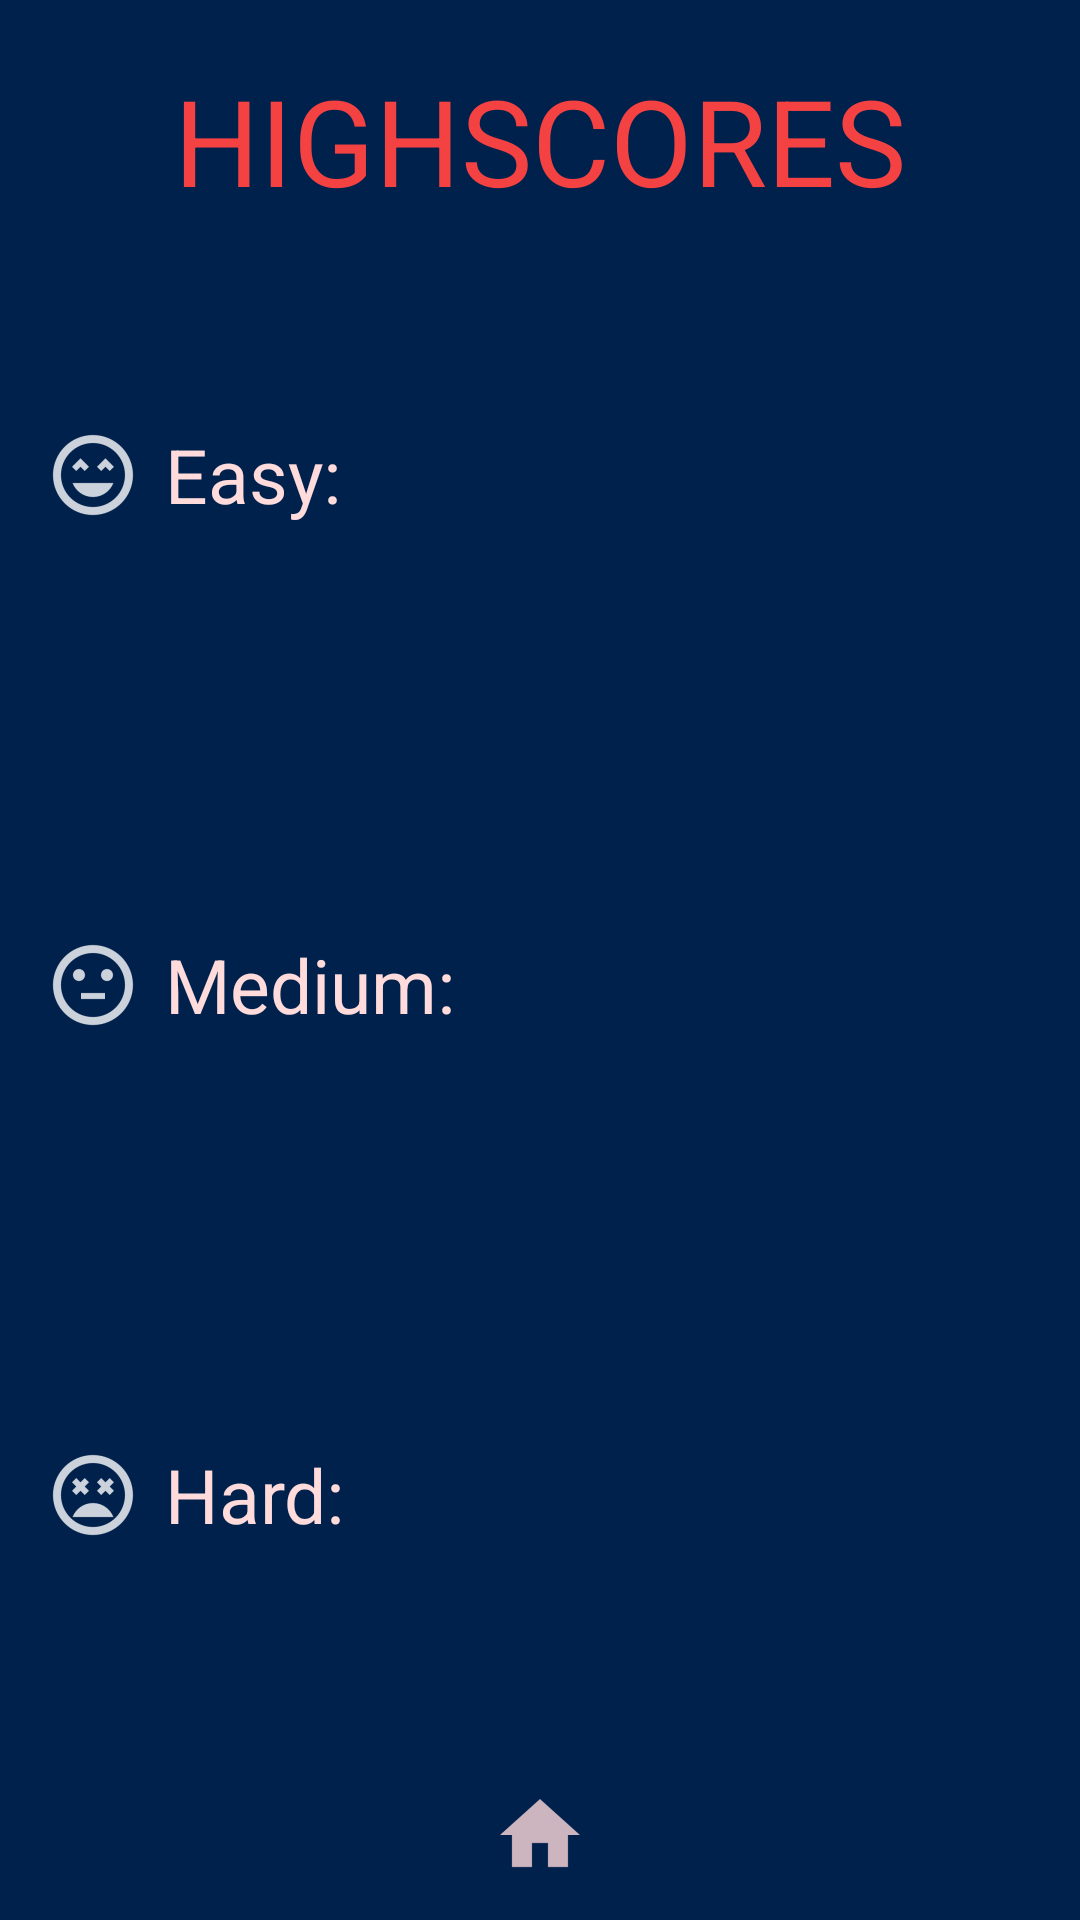

Named icons in this screenshot (1080×1920) and their bounding boxes, (x1, y1, x2, y2):
happy: (53, 435, 133, 515)
home: (500, 1799, 580, 1867)
neutral: (53, 945, 133, 1025)
